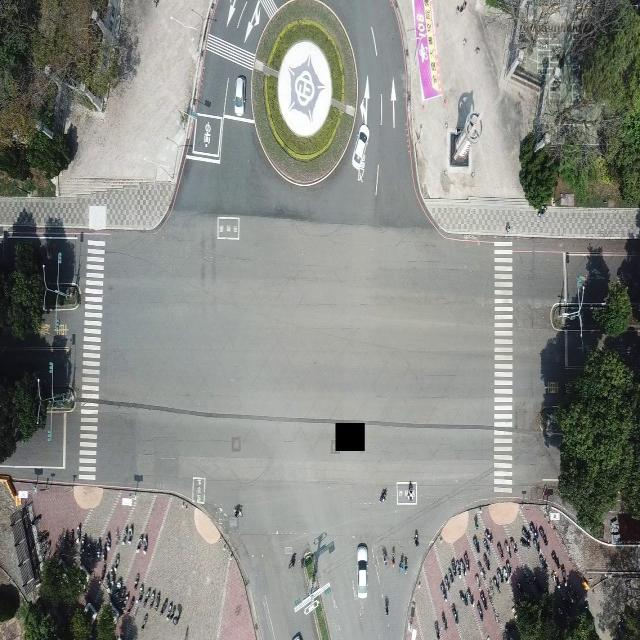bike: (411, 528, 421, 553), (537, 524, 547, 547), (537, 550, 547, 570), (440, 575, 448, 600), (441, 611, 449, 635), (520, 529, 530, 548), (550, 549, 559, 568), (479, 590, 487, 611), (482, 552, 490, 573), (400, 552, 407, 575), (381, 544, 388, 567), (504, 558, 512, 578), (552, 573, 560, 593), (560, 565, 568, 585), (140, 610, 148, 630), (126, 597, 134, 617), (168, 599, 174, 625), (138, 533, 145, 555), (137, 582, 144, 604), (505, 535, 514, 552), (452, 602, 459, 623), (465, 586, 472, 607), (449, 557, 456, 578), (495, 565, 502, 586), (464, 548, 470, 572), (472, 534, 479, 554), (105, 530, 112, 550), (407, 481, 414, 501), (379, 485, 386, 504), (496, 541, 503, 560), (128, 522, 134, 543), (434, 621, 441, 639), (113, 552, 119, 572), (475, 570, 481, 590), (121, 525, 127, 545), (484, 527, 491, 544), (384, 592, 389, 615), (234, 503, 241, 519), (145, 585, 150, 607), (161, 597, 166, 617), (458, 558, 463, 578), (154, 587, 158, 611), (74, 523, 79, 542), (176, 602, 180, 624)
car: (352, 120, 371, 180), (356, 540, 368, 588), (233, 74, 246, 116)
